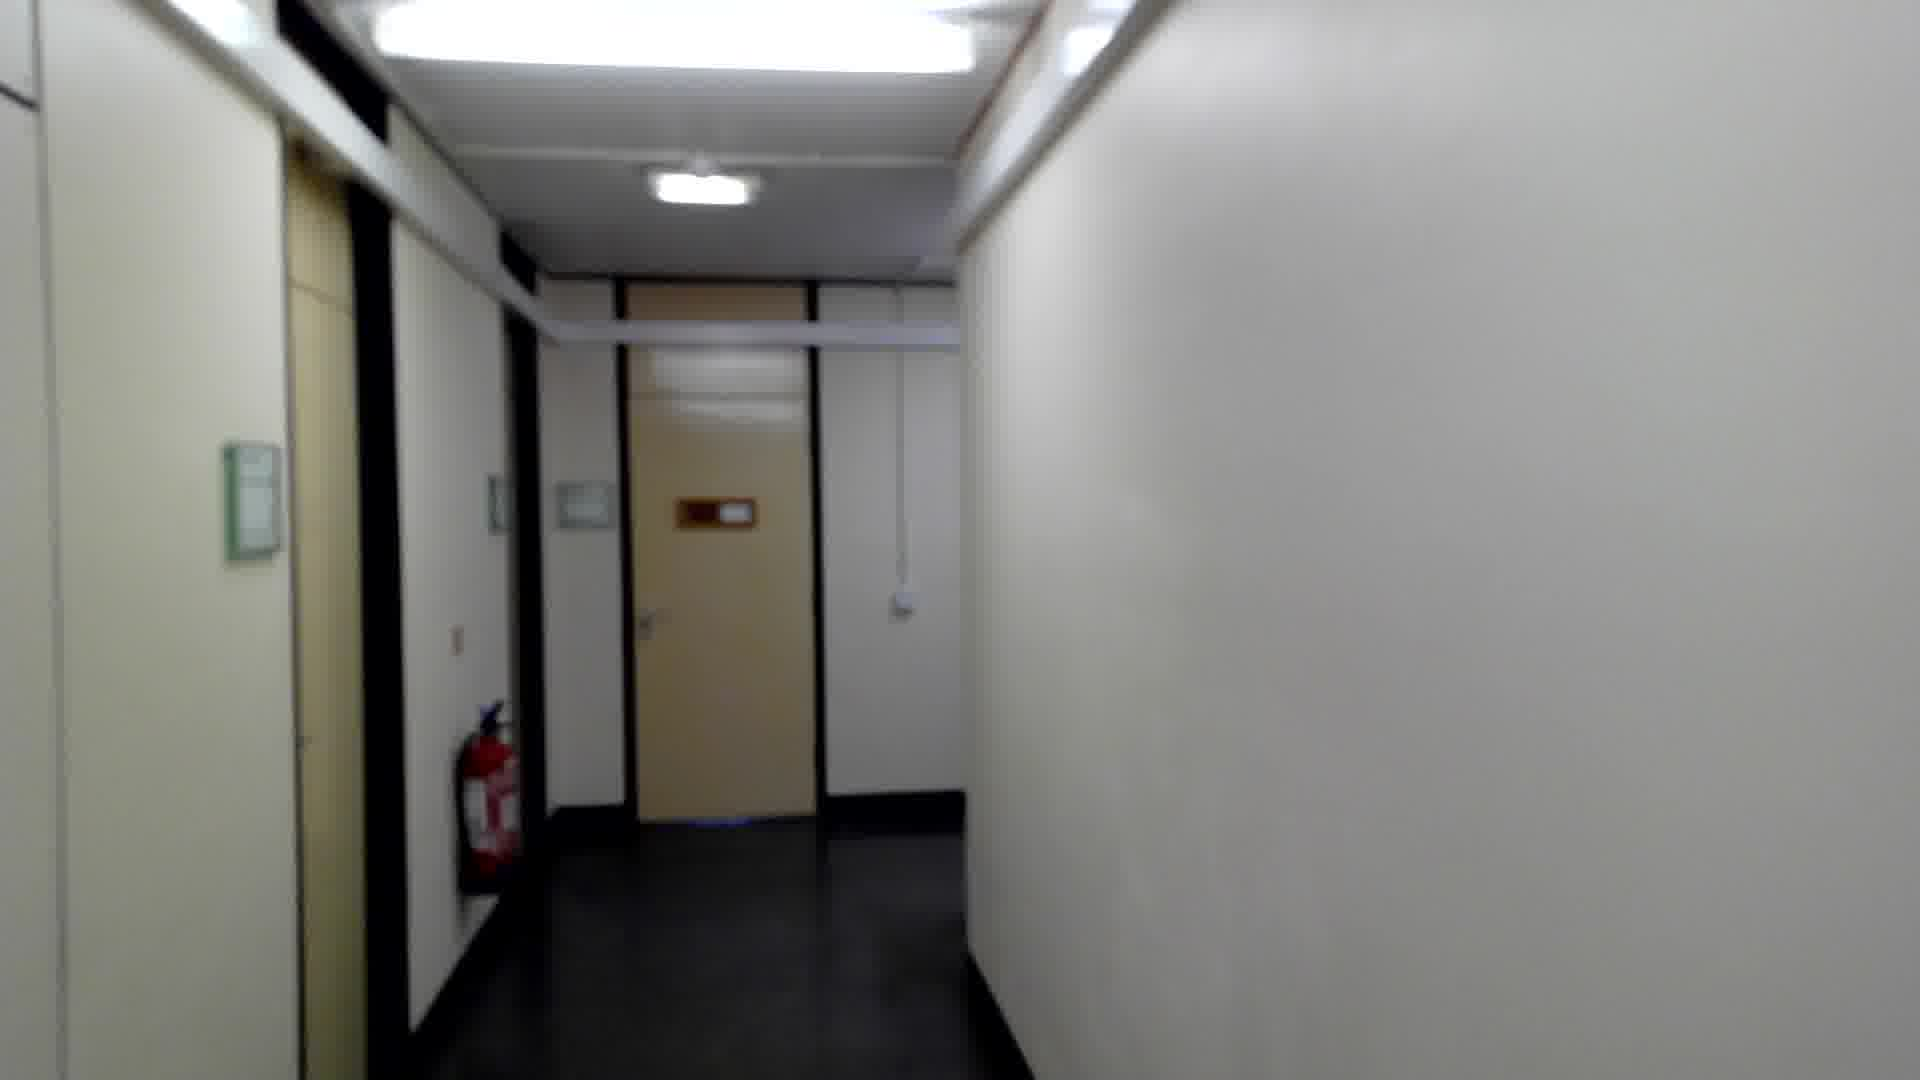Door: (264, 9, 433, 1077), (600, 260, 855, 865)
